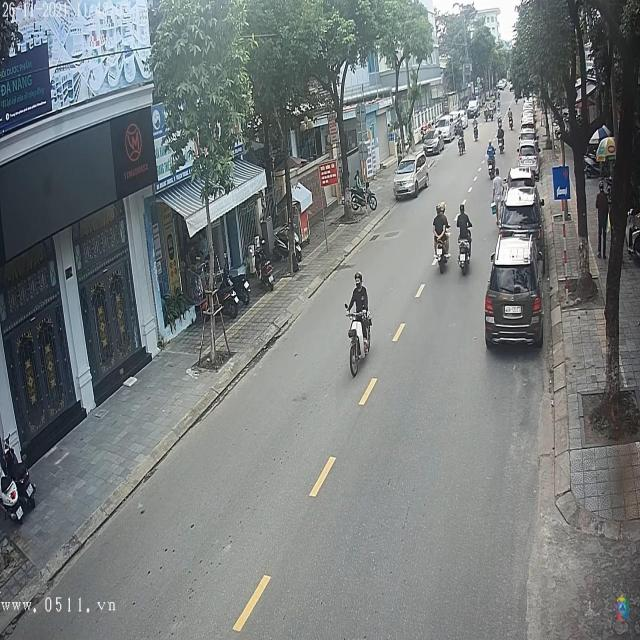car: (484, 241, 543, 351), (497, 182, 544, 238), (395, 154, 432, 201), (424, 126, 446, 155), (517, 145, 538, 168), (518, 124, 536, 140)
motorcycle: (348, 308, 372, 381), (435, 232, 450, 272), (459, 237, 473, 270)
